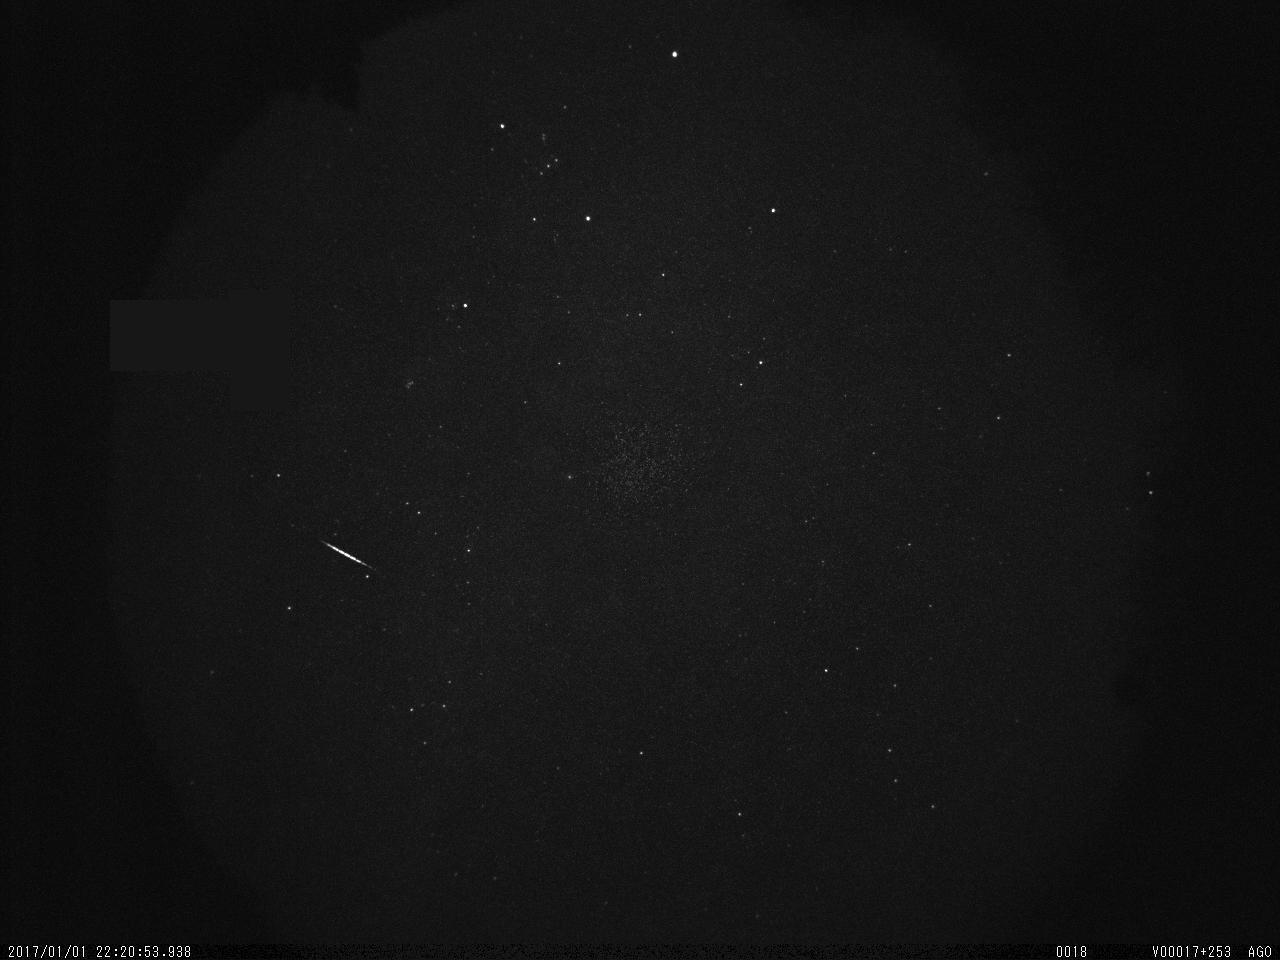meteor: (315, 537, 391, 582)
